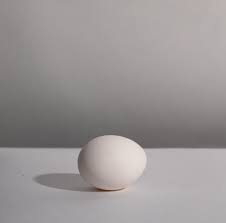eggs: (70, 123, 156, 195)
